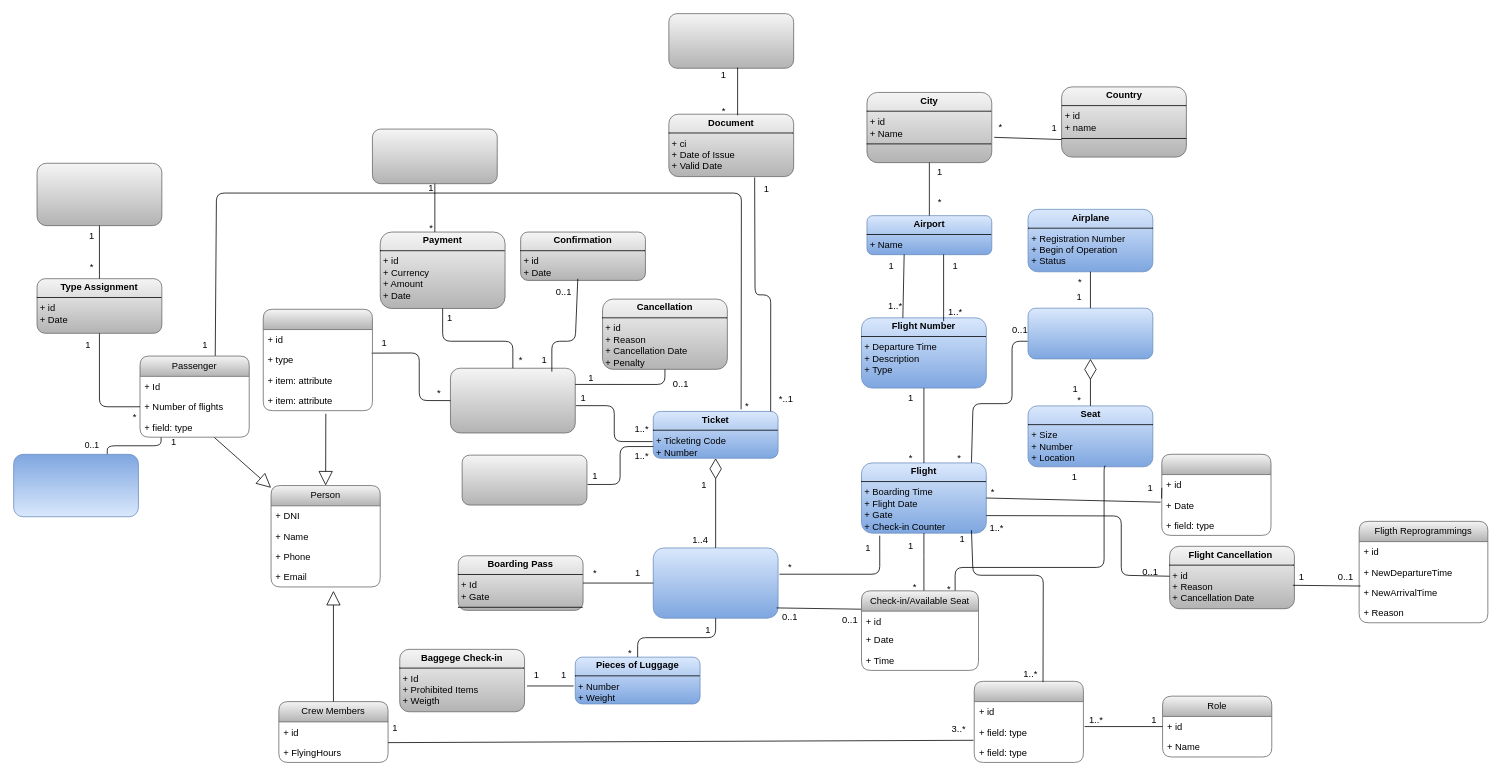
The diagram is 1502 pixels wide and 778 high, and some of its shapes have lost their labels. Here are the shapes that lost their labels. From the top down, the box of each, then its label:
(668, 13, 794, 68): Type Document + id + Name
(372, 128, 497, 184): Payment Type + id + Name
(36, 162, 162, 226): Custumer Type + id + Name + Description
(1027, 307, 1153, 359): Plane Model + Description + Graphic
(262, 308, 372, 411): Customer
(450, 367, 575, 433): Reserve + id + State + Reservation Date
(13, 454, 138, 517): Frequent Flyer Card + FFC Number + Miles + MealCode
(461, 454, 587, 505): Category + id + Name
(1161, 453, 1271, 535): Airline
(652, 547, 778, 618): Coupon + Date of Redemption + Class + Standby + Meal Code
(973, 681, 1083, 762): Crew Assignmentes
